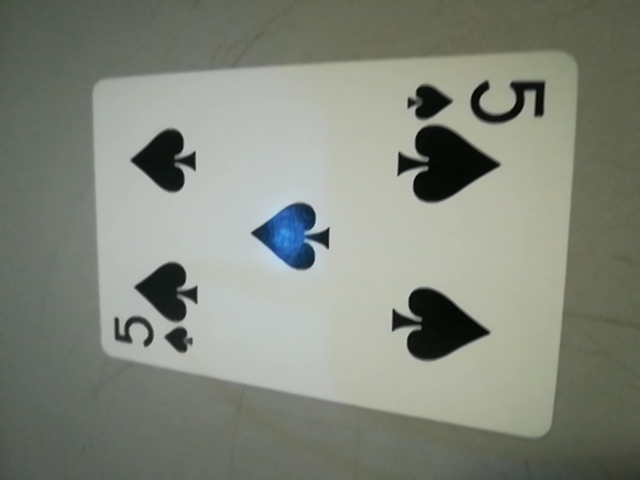ht 5: (399, 70, 561, 139)
